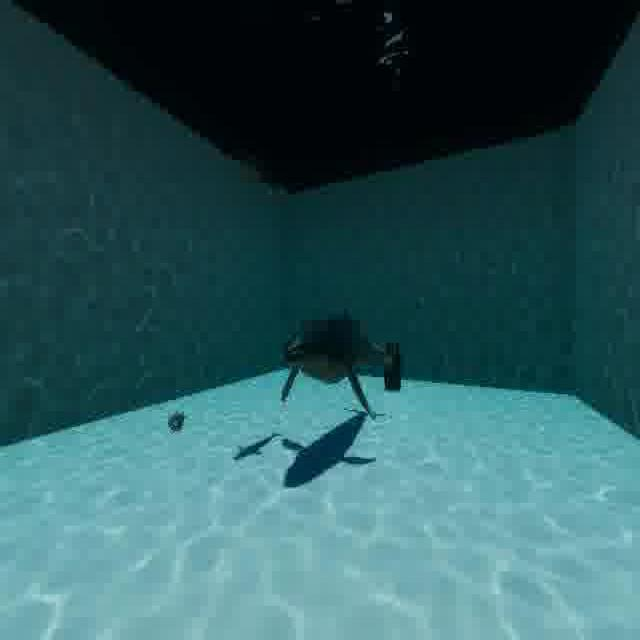Cylinder: (382, 334, 402, 396)
Shell: (162, 399, 194, 440)
Whale: (271, 308, 390, 427)
